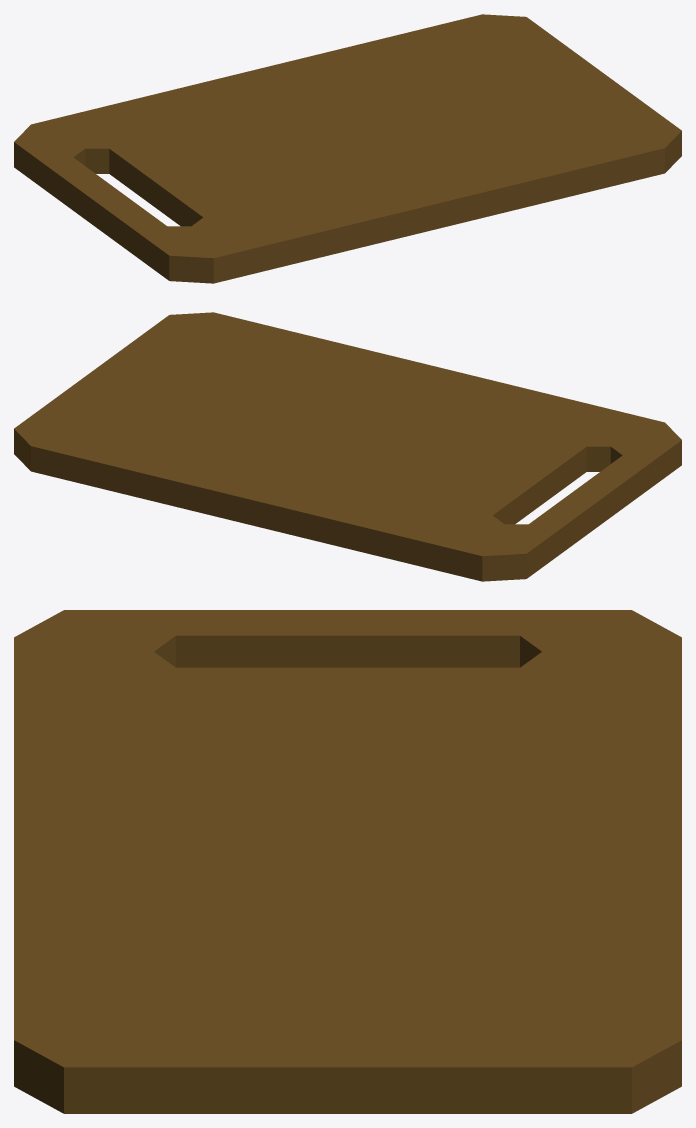
The model's file is LargeCuttingBoard.glb.
The picture shows the model from 3 angles, top to bottom: view 1: azimuth 30°, elevation 25°; view 2: azimuth 150°, elevation 25°; view 3: azimuth 270°, elevation 25°; orthographic projection. The views are drawn at different scales.
Visible parts, largest first — view 1: LargeCuttingBoard; view 2: LargeCuttingBoard; view 3: LargeCuttingBoard.
Boxes of the visible parts, x1,y1,x2,y2 form: LargeCuttingBoard: (14,14,681,283); LargeCuttingBoard: (14,312,681,581); LargeCuttingBoard: (14,610,681,1113).
Size of the model in its own units: 0.4331 by 0.0205 by 0.2674.
